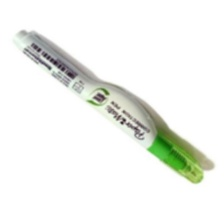correction_fluid: (11, 25, 207, 187)
